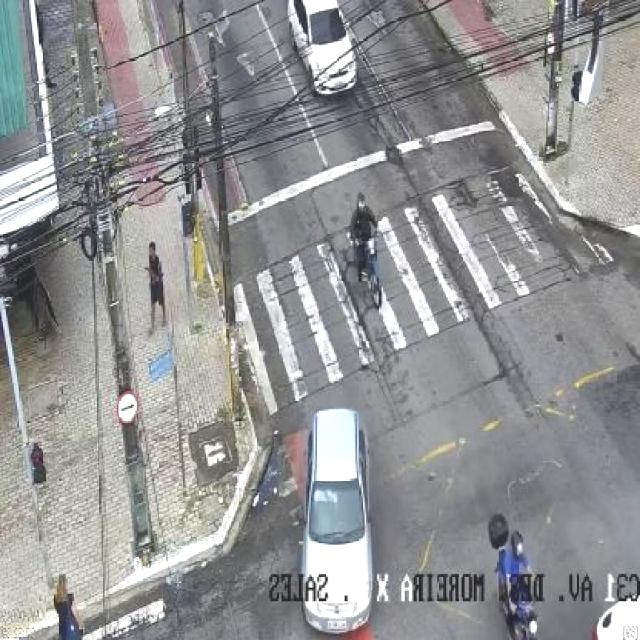Car: (288, 391, 386, 627), (287, 0, 373, 132)
Cycle: (470, 494, 552, 640), (333, 174, 391, 298)
